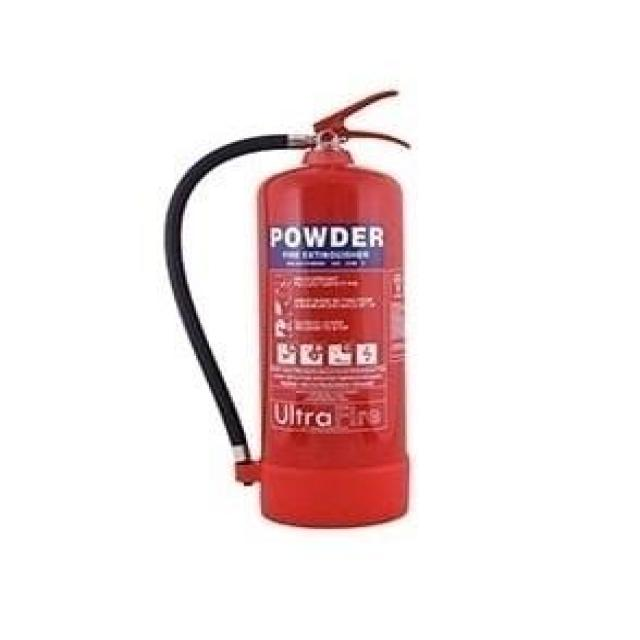fire_extinguisher: (156, 88, 426, 527)
